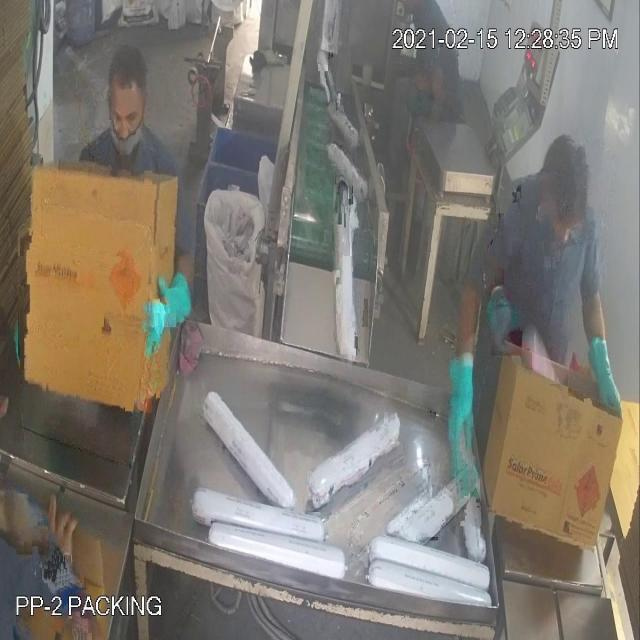Gloves: (48, 54, 606, 416)
